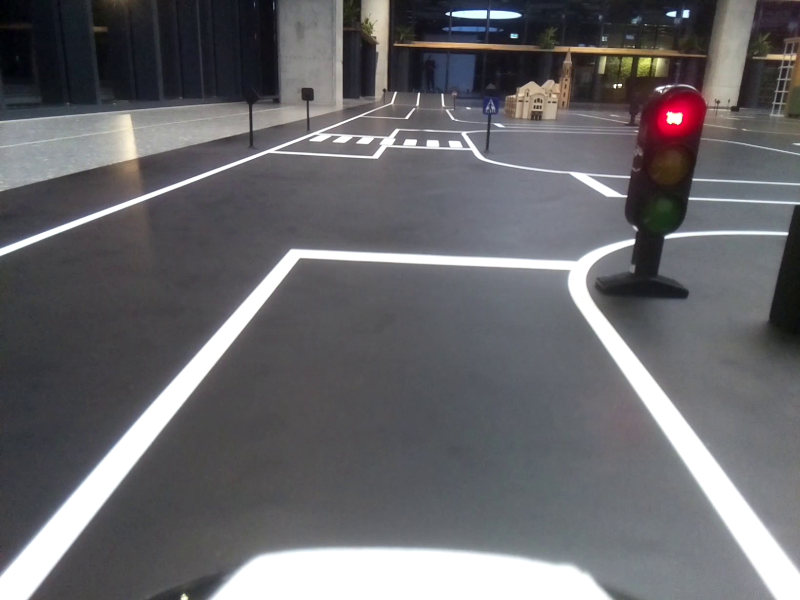traffic_red: (644, 87, 705, 237)
